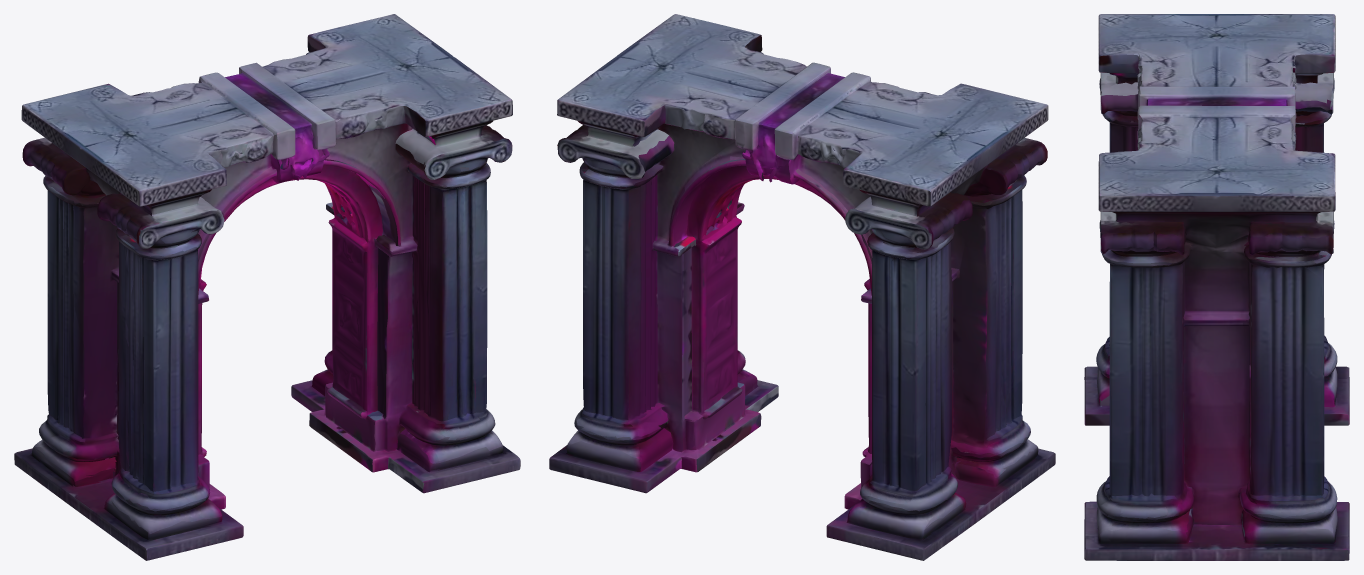
Rendered from support-column-generated-2026-05-17T18-31-11-487Z.medium.glb.
3 renders of one model, left to right at view 1: azimuth 30°, elevation 25°; view 2: azimuth 150°, elevation 25°; view 3: azimuth 270°, elevation 25°, orthographic.
Parts seen in each view (by area): view 1: temp_mesh.ply; view 2: temp_mesh.ply; view 3: temp_mesh.ply.
Part boxes in pixels (box(x1,y1,x2,y2)): temp_mesh.ply: box(14, 14, 520, 560); temp_mesh.ply: box(549, 14, 1055, 560); temp_mesh.ply: box(1084, 14, 1349, 560).
Bounding box in the file's own units: 1.97 × 1.86 × 1.21.
1 material, 1 textured.
